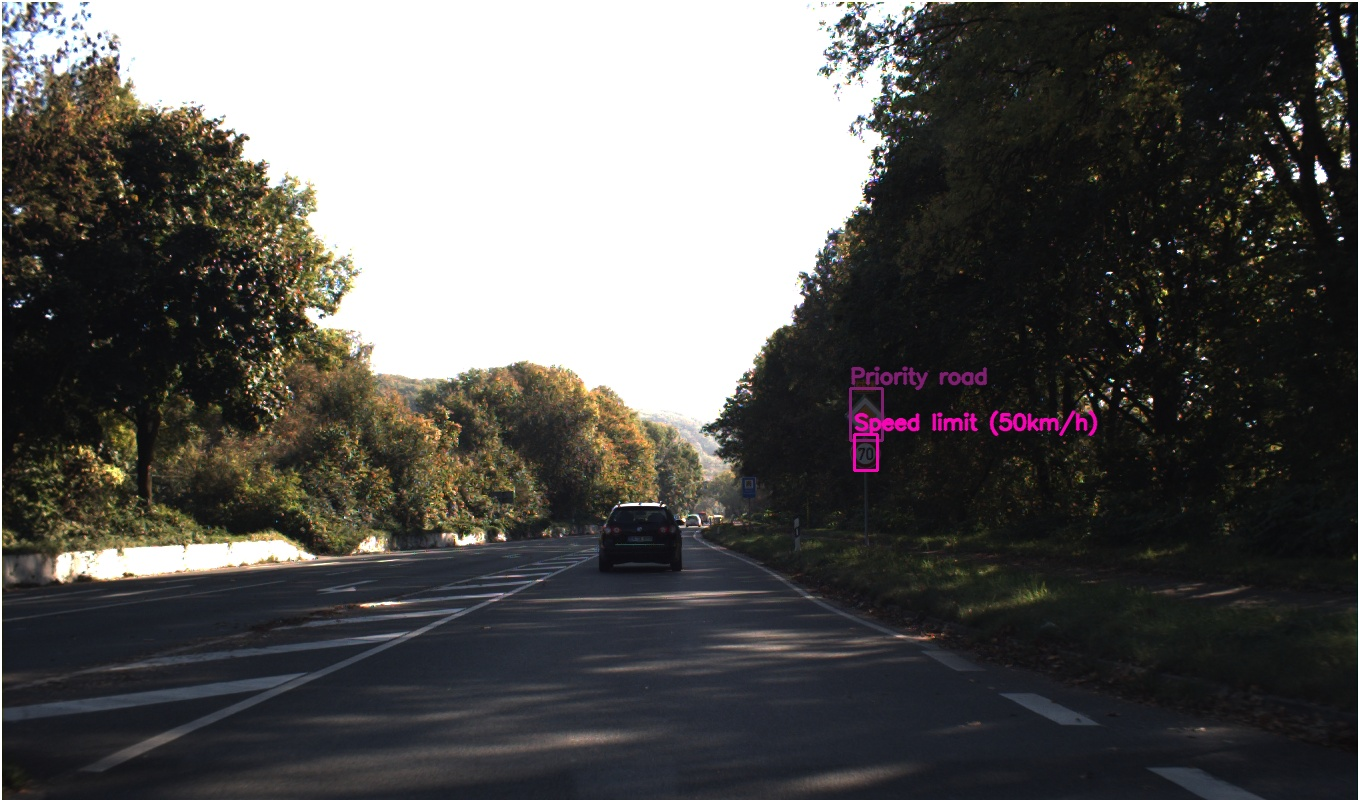Speed limit (50km/h): (786, 447, 808, 470)
